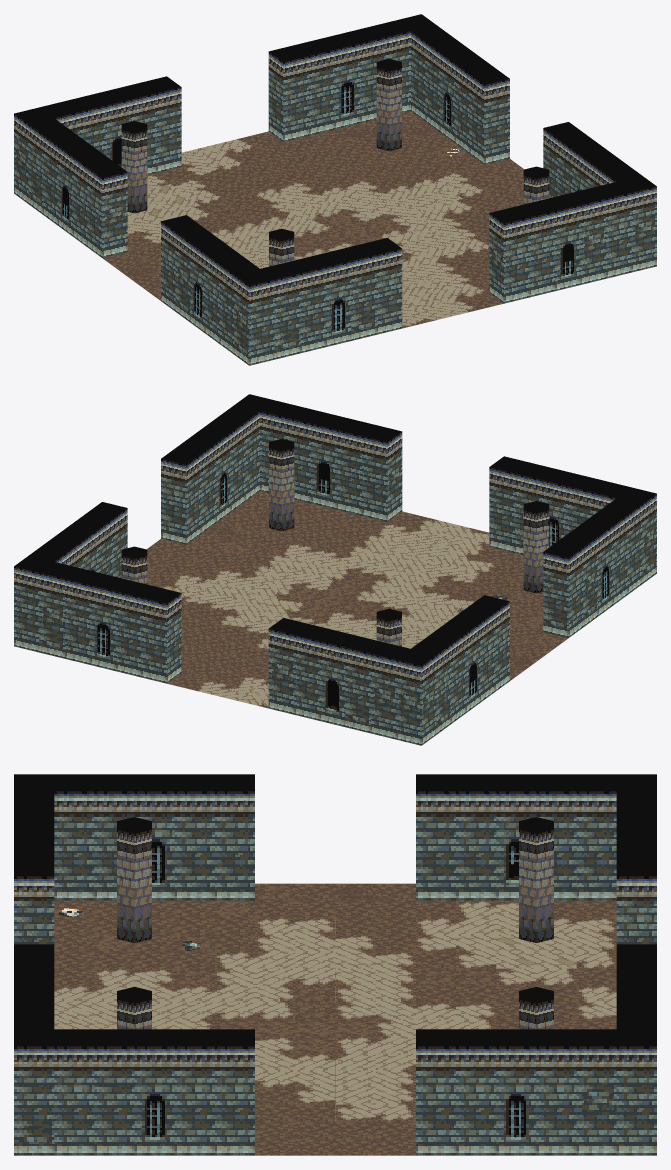
File: room-swne-col.gltf
The picture shows the model from 3 angles, top to bottom: view 1: azimuth 30°, elevation 25°; view 2: azimuth 150°, elevation 25°; view 3: azimuth 270°, elevation 25°; orthographic projection. The views are drawn at different scales.
Visible parts, largest first — view 1: room-swne-col; view 2: room-swne-col; view 3: room-swne-col.
Boxes of the visible parts, x1=… form: room-swne-col: x1=14, y1=14, x2=656, y2=365; room-swne-col: x1=14, y1=394, x2=656, y2=745; room-swne-col: x1=14, y1=774, x2=656, y2=1155.
Bounding box in the file's own units: 16 × 3 × 16.
1 material, 1 textured.
